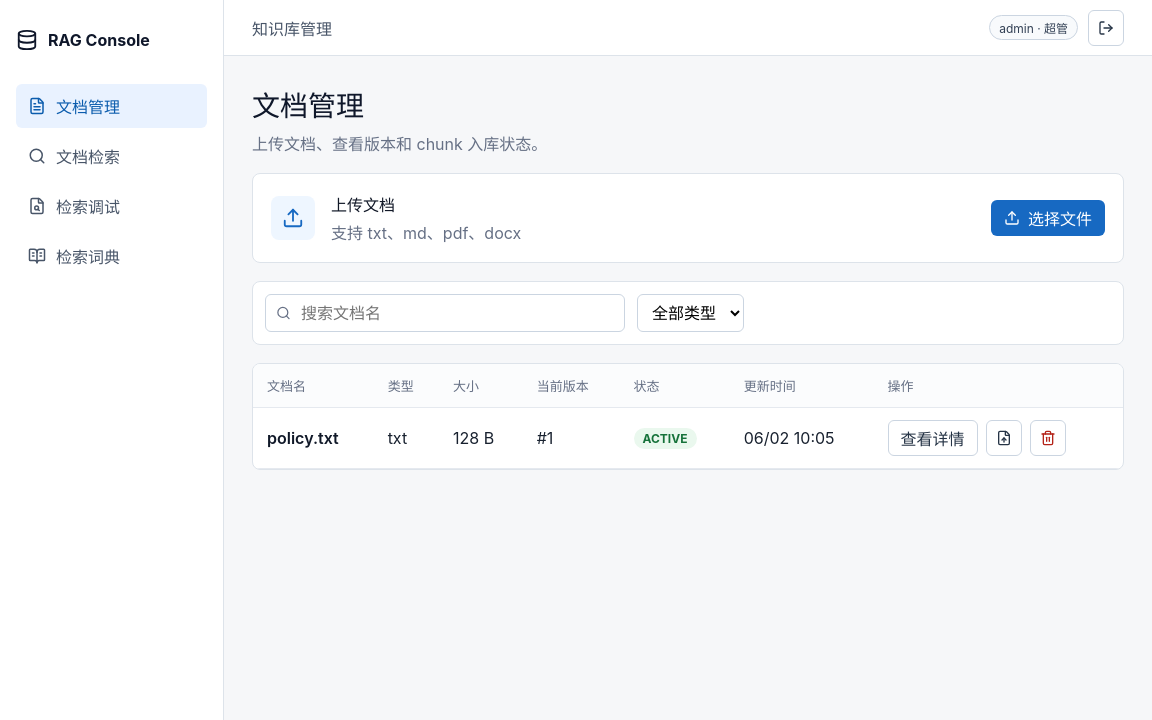
document management app › loads documents and opens detail chunks
Expected: the heading "文档管理" is shown, [252,89,364,123]
Expected: the text "policy.txt" is shown, [267,428,339,448]
Click the link "查看详情" at (933, 438), box [888,420,978,456]
(page scrolled)
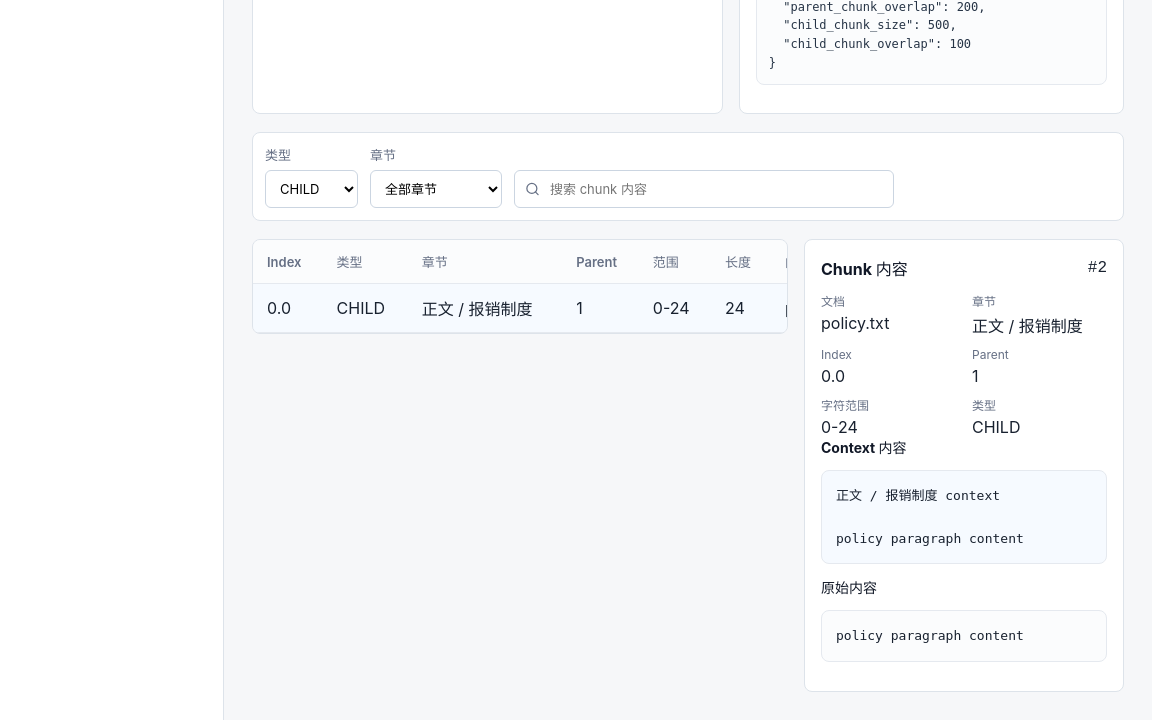
Result: the dropdown named "章节筛选" is shown at [370,170,502,208]
Result: the heading "Context 内容" is shown at [821,439,906,456]
Result: the text "正文 / 报销制度 context policy paragraph content" is shown at [821,470,1107,564]
